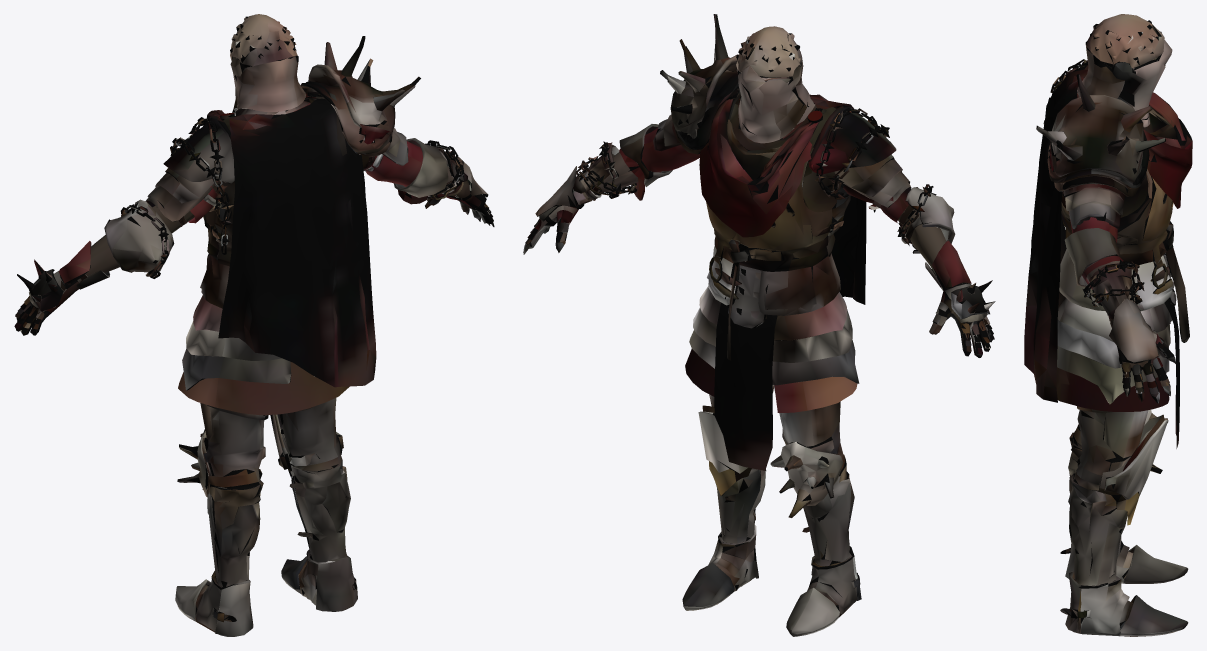
The picture shows the model from 3 angles, left to right: view 1: azimuth 30°, elevation 25°; view 2: azimuth 150°, elevation 25°; view 3: azimuth 270°, elevation 25°; orthographic projection. The views are drawn at different scales.
Parts seen in each view (by area): view 1: mesh_0; view 2: mesh_0; view 3: mesh_0.
Part boxes in pixels (x1,y1,x2,y2): mesh_0: [14, 14, 494, 636]; mesh_0: [523, 14, 995, 636]; mesh_0: [1024, 14, 1192, 636].
Size of the model in its own units: 61.23 by 72.98 by 18.97.
1 material, 1 textured.
